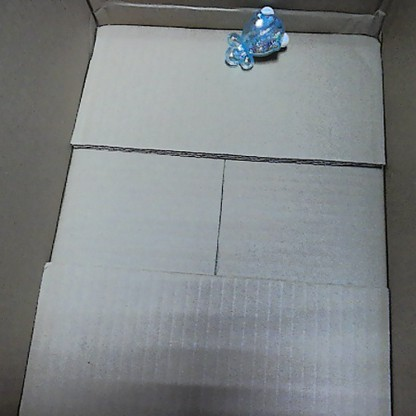bluefish: (223, 4, 291, 74)
